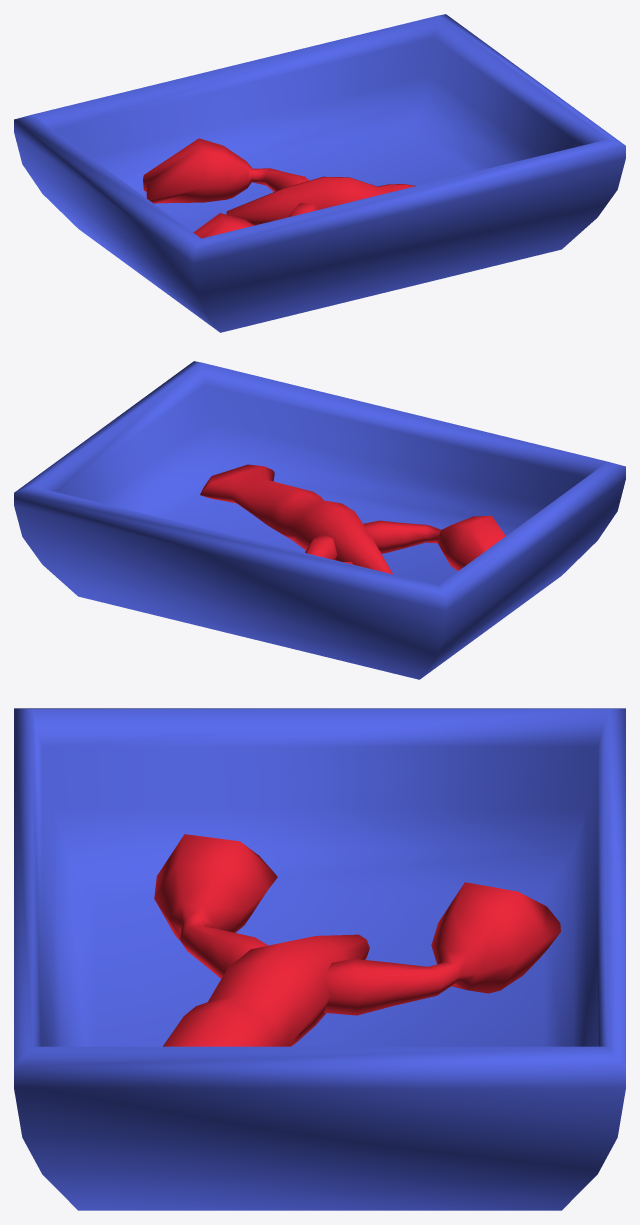
File: astice.fbx
3 renders of one model, top to bottom at view 1: azimuth 30°, elevation 25°; view 2: azimuth 150°, elevation 25°; view 3: azimuth 270°, elevation 25°, orthographic. The views are drawn at different scales.
Visible parts, largest first — view 1: aragosta; view 2: aragosta; view 3: aragosta.
Boxes of the visible parts, <box> form: aragosta: <box>14,14,625,332</box>; aragosta: <box>14,361,625,679</box>; aragosta: <box>14,708,625,1210</box>.
Bounding box in the file's own units: 239 × 59.19 × 172.
